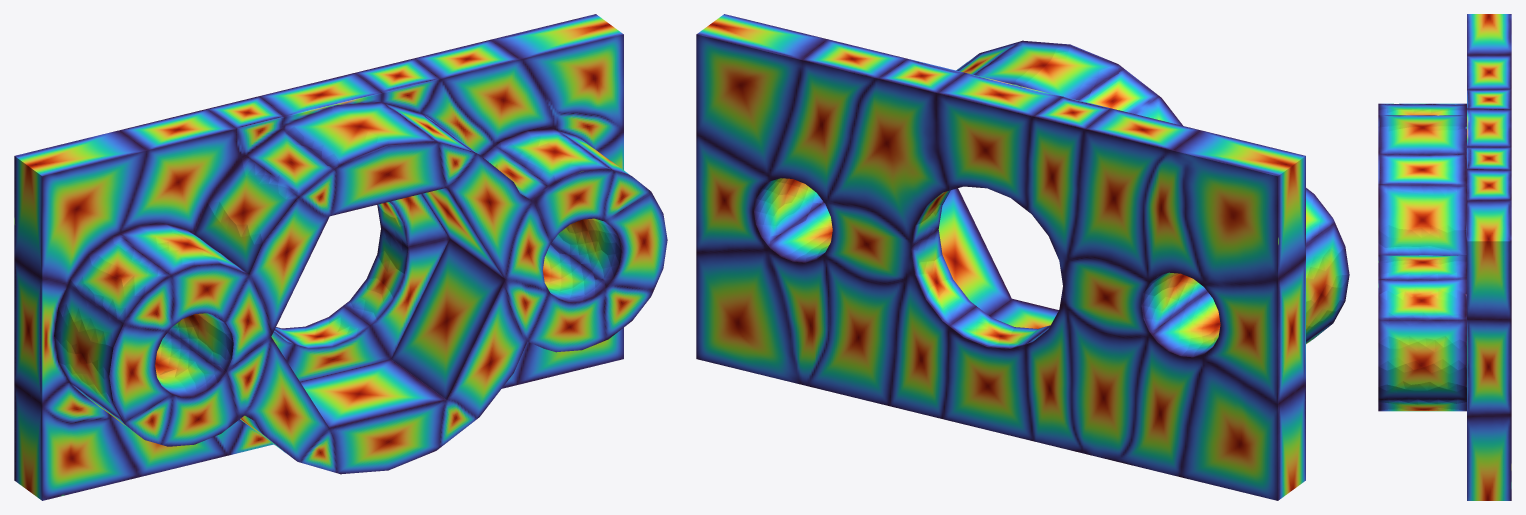
File: gen2.glb
The picture shows the model from 3 angles, left to right: view 1: azimuth 30°, elevation 25°; view 2: azimuth 150°, elevation 25°; view 3: azimuth 270°, elevation 25°; orthographic projection. The views are drawn at different scales.
Parts seen in each view (by area): view 1: Node; view 2: Node; view 3: Node.
Boxes of the visible parts, x1=… form: Node: x1=14, y1=14, x2=667, y2=500; Node: x1=696, y1=14, x2=1349, y2=500; Node: x1=1378, y1=14, x2=1511, y2=500.
Size of the model in its own units: 38.1 by 20.32 by 9.45.
1 material, 1 textured.
